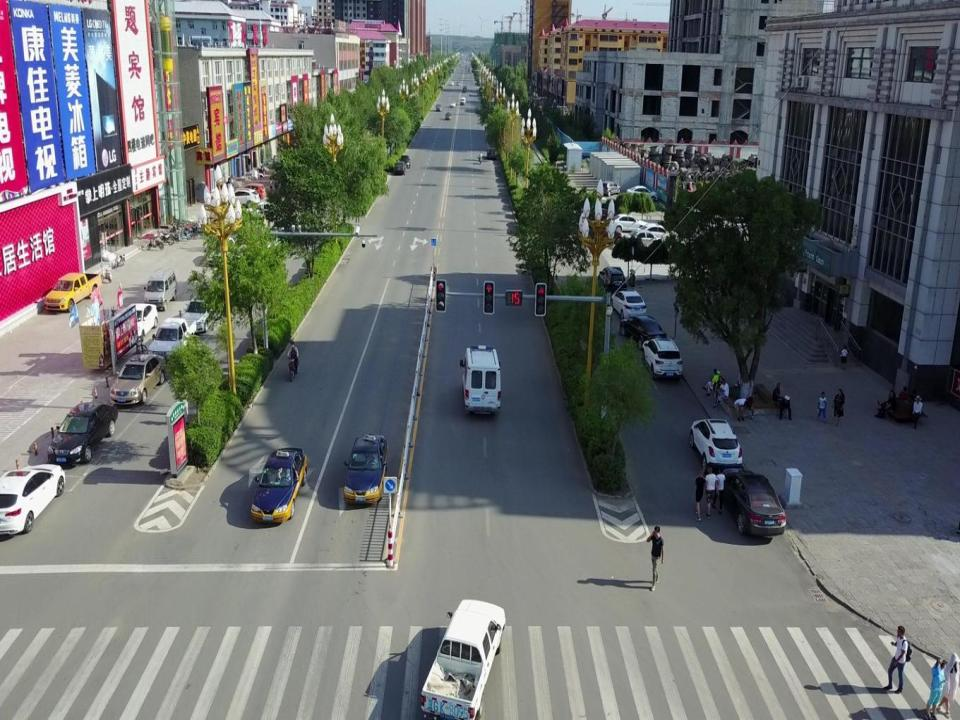car: (421, 600, 506, 716), (0, 463, 65, 534), (48, 400, 116, 466), (722, 466, 786, 534), (251, 447, 308, 523), (342, 433, 389, 503), (110, 353, 167, 405), (690, 418, 742, 473), (44, 271, 101, 312), (148, 316, 196, 359), (620, 315, 667, 349), (642, 337, 682, 376), (180, 296, 222, 332), (122, 302, 158, 340), (610, 289, 646, 317), (634, 223, 679, 243), (608, 213, 650, 233), (598, 266, 626, 294), (224, 187, 260, 208), (246, 202, 282, 221), (630, 231, 666, 250), (235, 182, 266, 200), (627, 184, 657, 202), (599, 180, 621, 196), (393, 161, 406, 175), (399, 154, 411, 168), (486, 147, 496, 159), (444, 112, 452, 120), (436, 104, 443, 111), (462, 85, 468, 93), (448, 80, 454, 87), (450, 101, 456, 107), (456, 81, 460, 87)
van: (459, 344, 502, 413), (142, 268, 178, 310), (459, 96, 466, 105)
